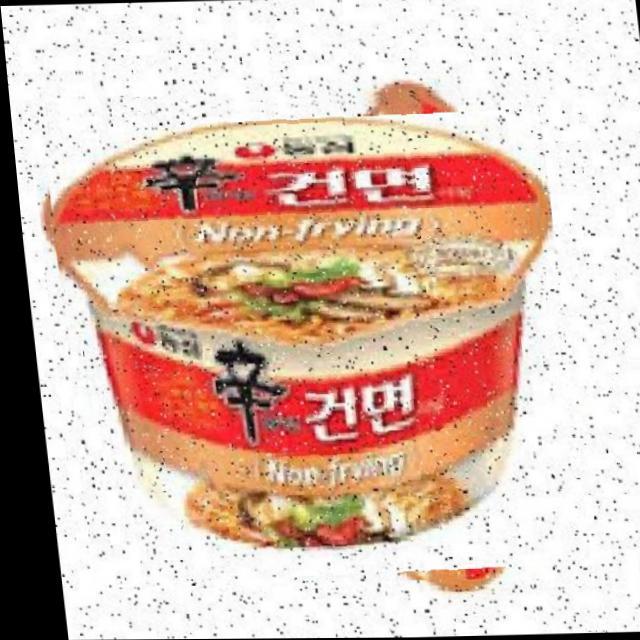Miscellaneous: (35, 88, 568, 588)
